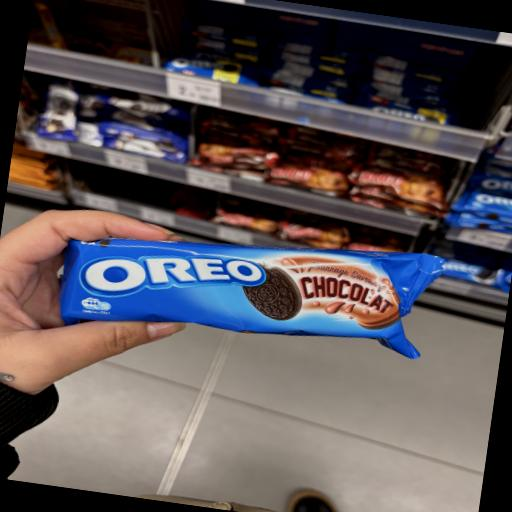oreo: (15, 180, 472, 416)
